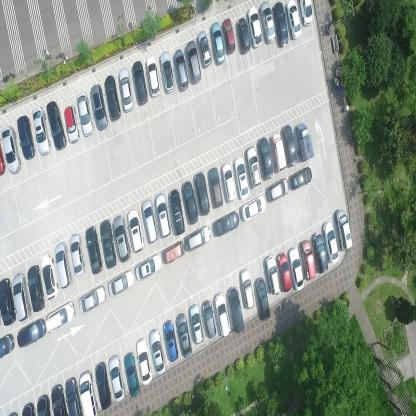car: (45, 100, 67, 152), (1, 124, 22, 174), (31, 105, 51, 156), (39, 253, 59, 302), (84, 224, 103, 275), (54, 239, 73, 290), (12, 274, 32, 322), (44, 301, 74, 333), (17, 316, 45, 350), (99, 216, 117, 268), (78, 282, 106, 315), (134, 336, 153, 384), (16, 115, 36, 160), (112, 213, 130, 263), (90, 83, 109, 130), (27, 264, 45, 313), (76, 89, 94, 137), (108, 354, 126, 401), (94, 362, 112, 409), (79, 371, 98, 415), (181, 178, 199, 224), (153, 192, 171, 238), (126, 207, 144, 253), (287, 244, 305, 290), (334, 209, 353, 252), (228, 285, 245, 333), (149, 326, 166, 374), (123, 350, 140, 398), (321, 219, 339, 264), (294, 122, 314, 162), (131, 58, 148, 105), (104, 74, 121, 121), (0, 278, 17, 325), (273, 1, 289, 50), (169, 186, 185, 235), (193, 170, 210, 216), (69, 232, 86, 278), (214, 292, 231, 338), (134, 253, 162, 280), (108, 268, 134, 297), (162, 319, 179, 363), (185, 39, 201, 85), (257, 134, 273, 180), (142, 197, 158, 243), (176, 312, 192, 358), (241, 194, 267, 222), (185, 224, 211, 252), (63, 377, 82, 415), (270, 132, 288, 172), (254, 277, 270, 322), (209, 22, 226, 64), (246, 5, 262, 49), (172, 48, 188, 92), (233, 156, 249, 200), (213, 209, 239, 236), (299, 239, 316, 280), (159, 51, 175, 94), (246, 145, 262, 188), (208, 165, 224, 208), (119, 67, 134, 112), (188, 302, 204, 344), (63, 105, 81, 142), (285, 0, 302, 39), (260, 0, 275, 44), (282, 123, 297, 167), (312, 233, 328, 274), (264, 255, 280, 296), (240, 268, 256, 309), (221, 162, 237, 202), (201, 299, 217, 339), (277, 250, 292, 292), (196, 30, 212, 68), (50, 382, 68, 415), (235, 17, 251, 54), (146, 55, 160, 96), (162, 240, 184, 266), (290, 166, 313, 190), (266, 178, 288, 202), (297, 0, 313, 29), (223, 16, 235, 54), (0, 331, 16, 358), (37, 392, 51, 416)
